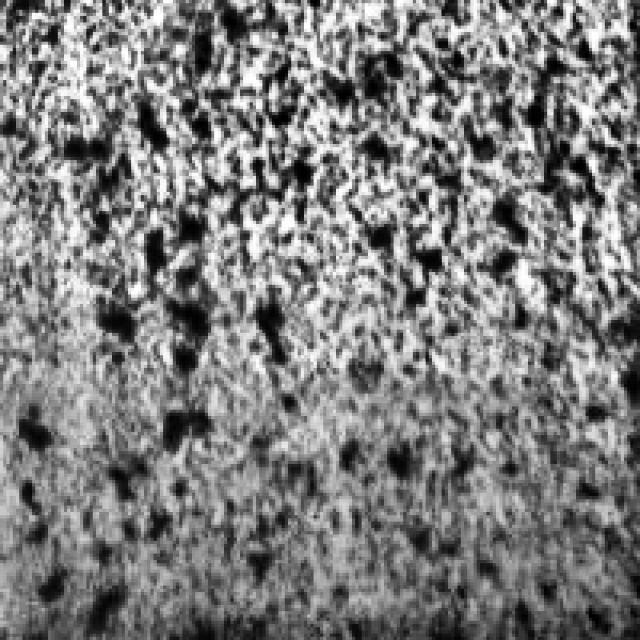Rolled_in_Scale: (96, 3, 627, 608), (22, 90, 244, 634)
